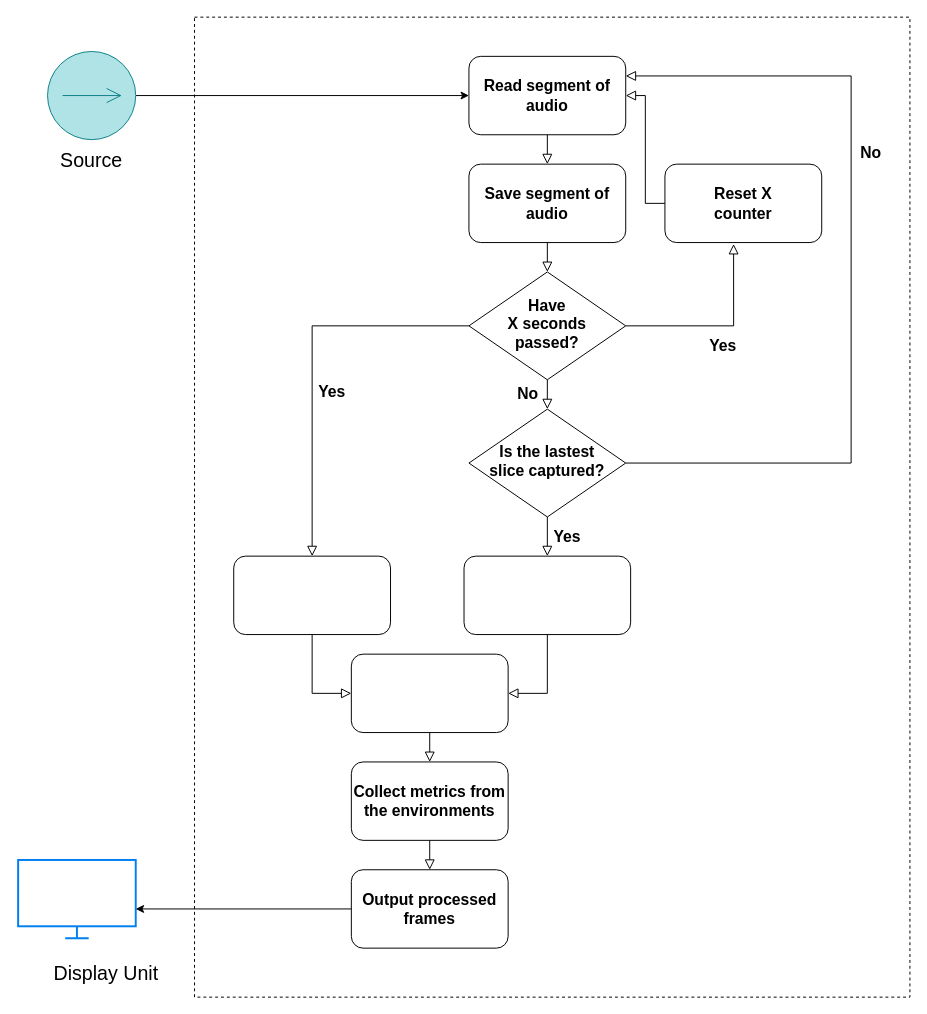
This 927x1014 diagram has some shape labels left out. The centre of each missing label's shape, as x and y in pixels:
Assign the frames to the environments: pixel 429 693
Load DRL model (Online Mode): pixel 312 595
Start Agent (Offline Mode): pixel 547 595
